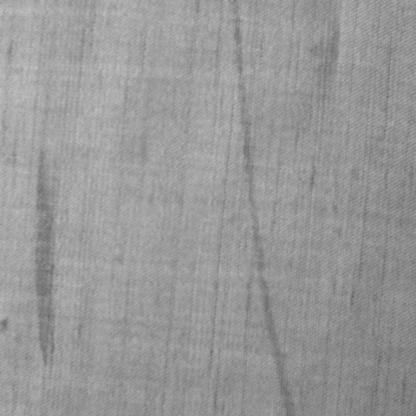oil spot: (228, 2, 295, 416), (33, 146, 59, 366)
